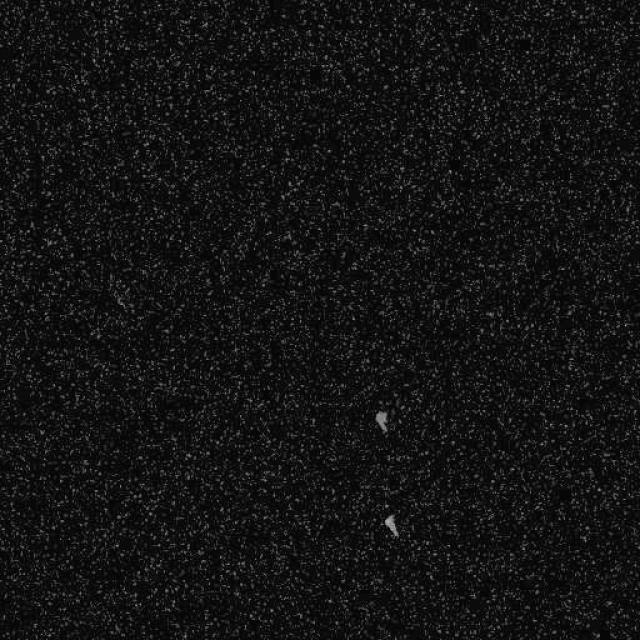D2: (382, 512, 398, 538), (374, 408, 388, 434)
